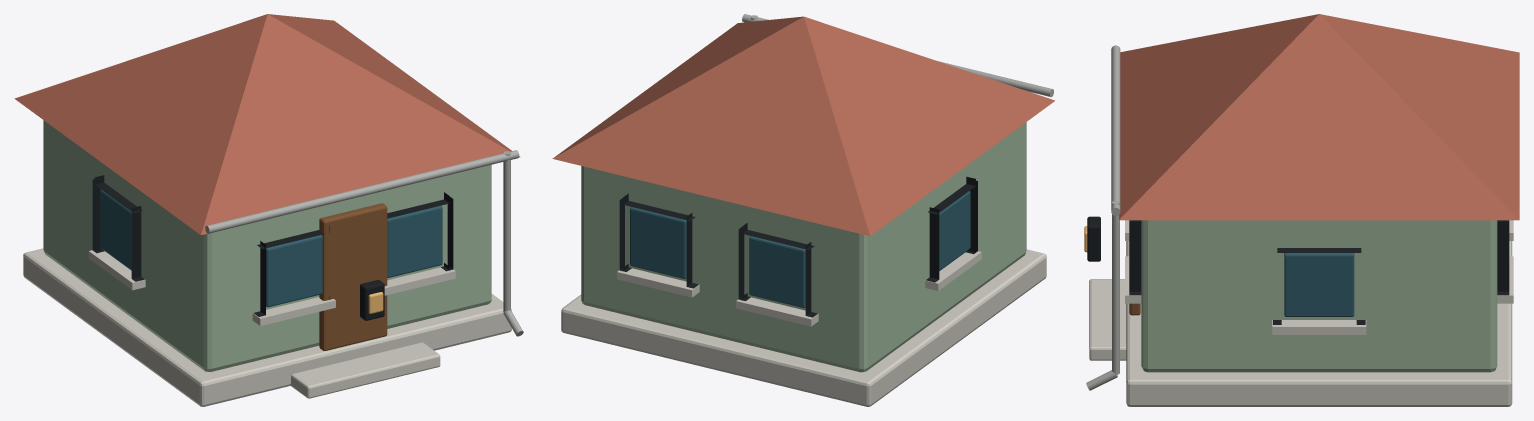
File: RES_LOW_1x1_002.glb
3 views of the same model, side by side, from view 1: azimuth 30°, elevation 25°; view 2: azimuth 150°, elevation 25°; view 3: azimuth 270°, elevation 25° (orthographic). The views are drawn at different scales.
Parts seen in each view (by area): view 1: RES_LOW_1x1_002_Visual; view 2: RES_LOW_1x1_002_Visual; view 3: RES_LOW_1x1_002_Visual.
Boxes of the visible parts, x1,y1,x2,y2 form: RES_LOW_1x1_002_Visual: (14,14,523,406); RES_LOW_1x1_002_Visual: (552,14,1054,406); RES_LOW_1x1_002_Visual: (1084,14,1519,406).
Size of what is drawn, in the model's own units: 1.59 by 1.38 by 1.74.
